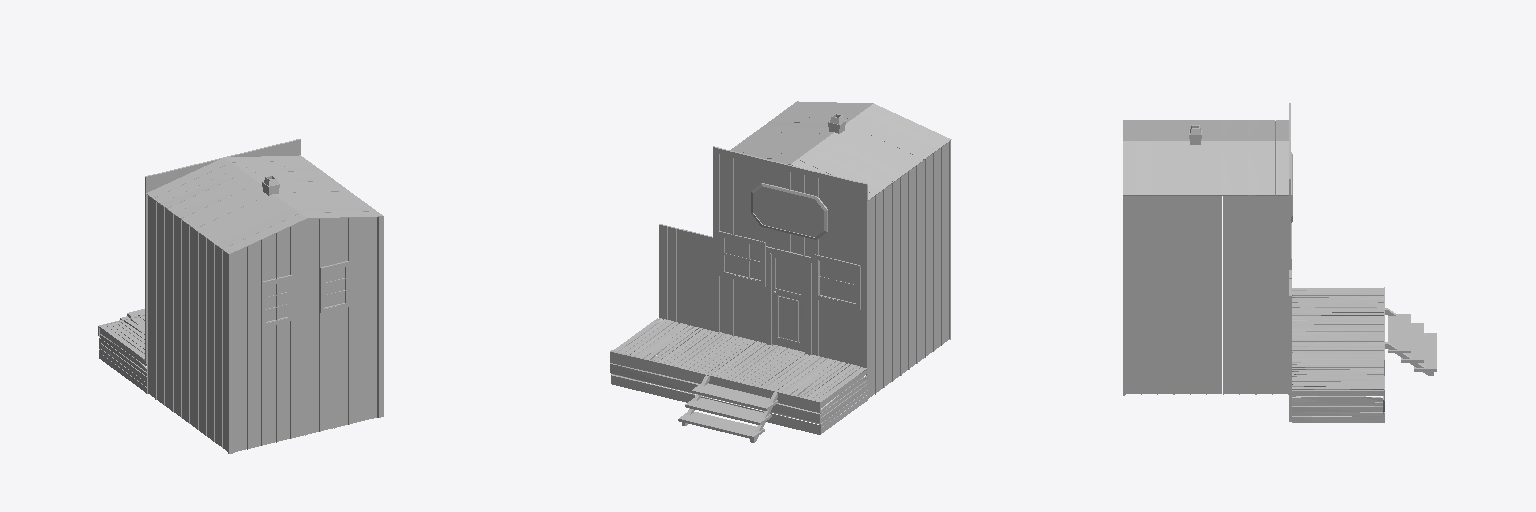
The model's file is West_Wild_Home_16.obj.
3 renders of one model, left to right at view 1: azimuth 30°, elevation 25°; view 2: azimuth 150°, elevation 25°; view 3: azimuth 270°, elevation 25°, orthographic.
Parts seen in each view (by area): view 1: Home_16; view 2: Home_16; view 3: Home_16.
Part boxes in pixels (x1,y1,x2,y2): Home_16: (98, 139, 383, 453); Home_16: (610, 101, 951, 442); Home_16: (1123, 103, 1436, 422).
Size of the model in its own units: 604 by 634 by 780.